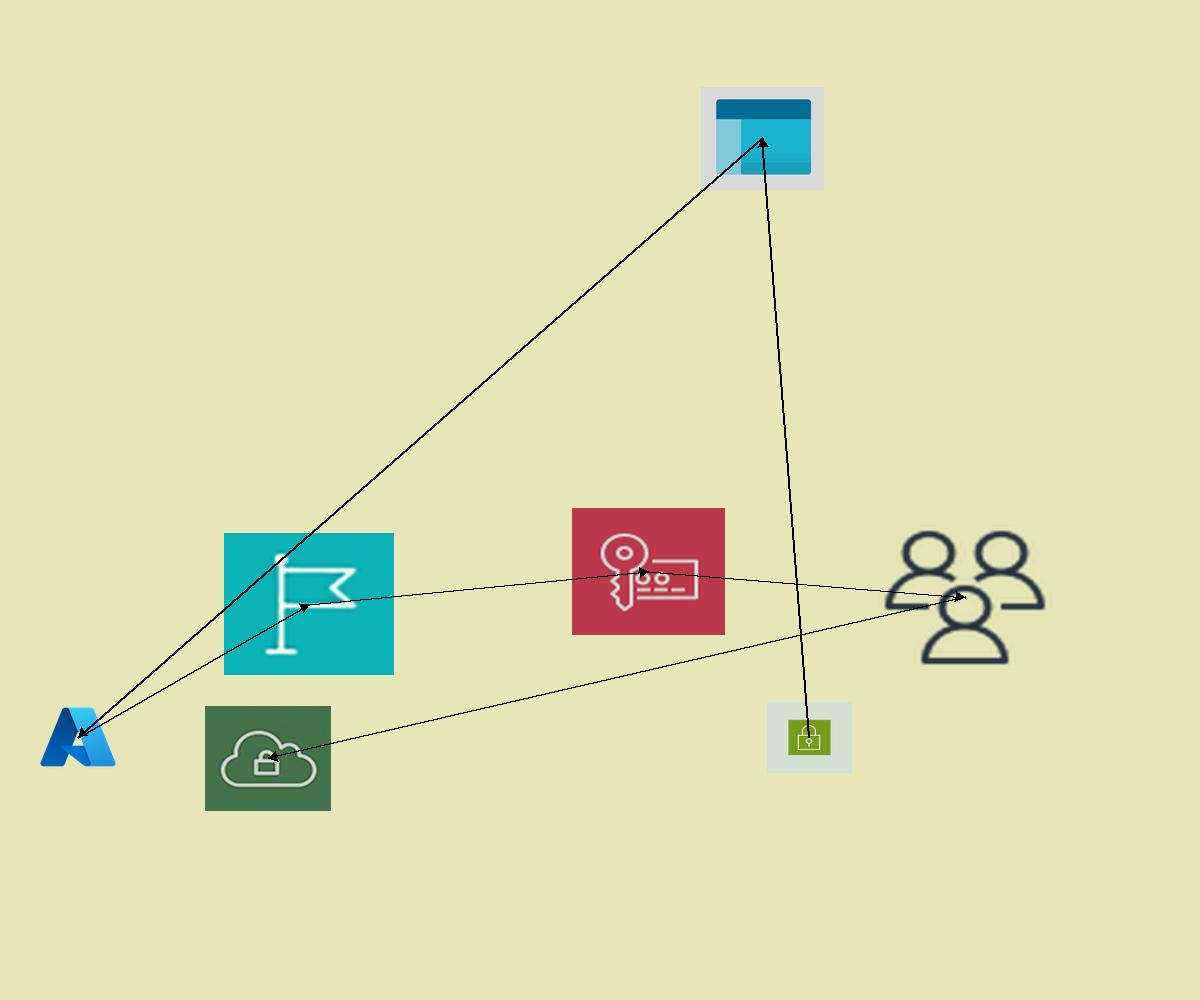AWS-Key-Management-Service: (572, 508, 725, 635)
AWS-Private_vpc: (205, 706, 331, 811)
AWS-Public-subnet: (767, 702, 852, 773)
AWS-Region: (224, 533, 394, 675)
AWS-Res_Users: (878, 525, 1052, 670)
Azure_management-portal: (701, 87, 824, 190)
Azure_services: (37, 703, 119, 771)
